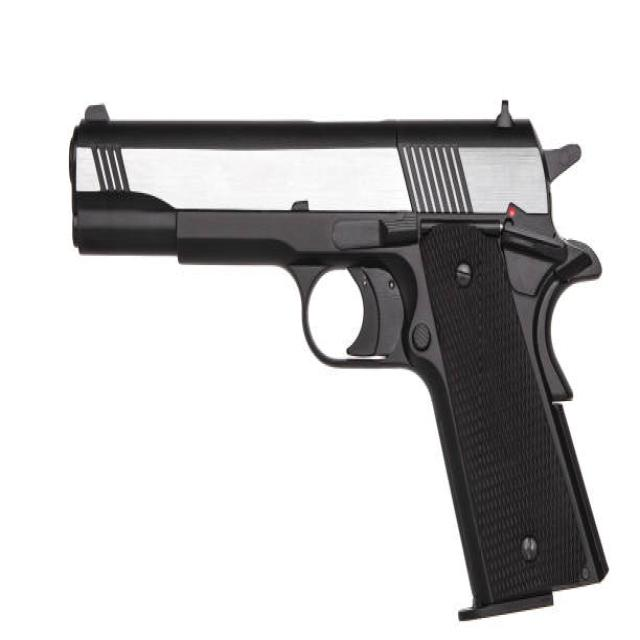pistol: (64, 87, 613, 626)
